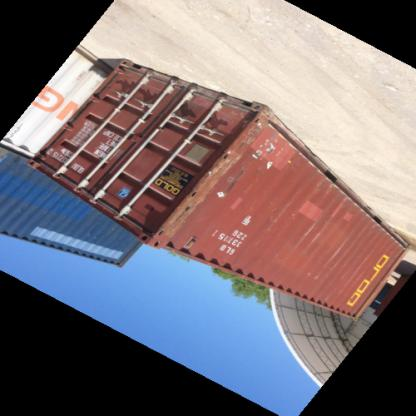Damage: (154, 159, 218, 241), (238, 121, 280, 166), (262, 197, 294, 235), (322, 236, 348, 268), (221, 170, 249, 198), (326, 196, 352, 223), (308, 172, 326, 200), (306, 214, 320, 245), (219, 146, 236, 170), (236, 208, 254, 230), (304, 268, 320, 284)
